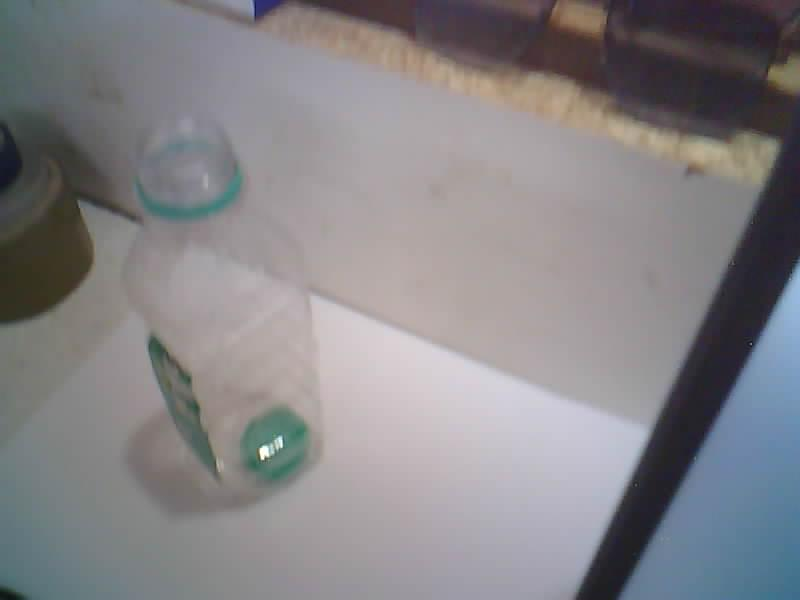non-biodegradable: (123, 118, 319, 499)
